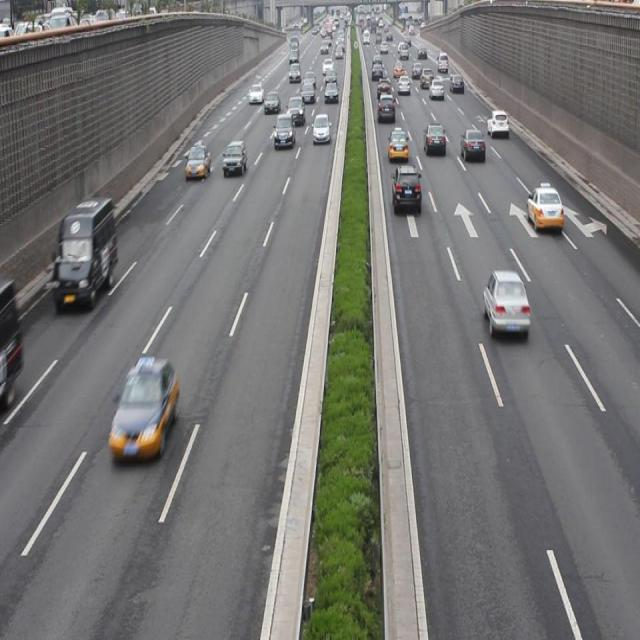car: (108, 359, 178, 459), (482, 270, 530, 334), (525, 184, 562, 232), (390, 164, 420, 214), (185, 142, 211, 179), (222, 140, 247, 175), (460, 127, 484, 162), (424, 120, 446, 158), (386, 127, 408, 162), (274, 113, 296, 148), (486, 107, 509, 138), (311, 112, 330, 144), (287, 96, 305, 126)
truck: (52, 195, 117, 305), (376, 92, 394, 124)
